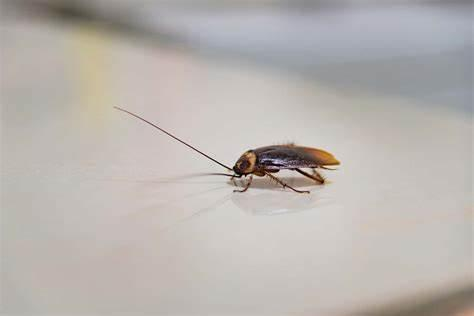cockroach: (225, 144, 341, 193)
